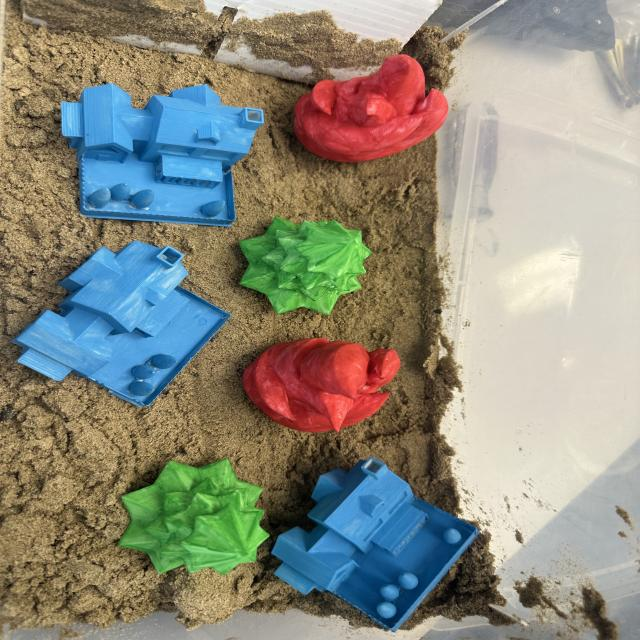fire: (295, 54, 450, 164), (243, 336, 401, 435)
house: (11, 240, 232, 410), (272, 456, 481, 631), (60, 81, 267, 230)
tree: (120, 456, 272, 577), (239, 214, 374, 316)
